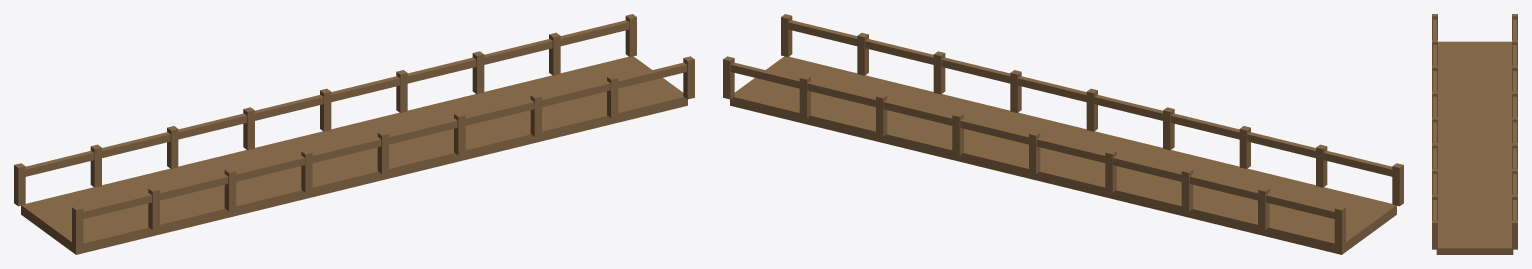
Rendered from WR_WoodBridge.fbx.
3 views of the same model, side by side, from view 1: azimuth 30°, elevation 25°; view 2: azimuth 150°, elevation 25°; view 3: azimuth 270°, elevation 25° (orthographic). The views are drawn at different scales.
Visible parts, largest first — view 1: WR_WoodBridge; view 2: WR_WoodBridge; view 3: WR_WoodBridge.
Boxes of the visible parts, <box> form: WR_WoodBridge: <box>14,14,694,254</box>; WR_WoodBridge: <box>723,14,1403,254</box>; WR_WoodBridge: <box>1432,14,1517,254</box>.
Bounding box in the file's own units: 2.81 × 16.19 × 1.2.
